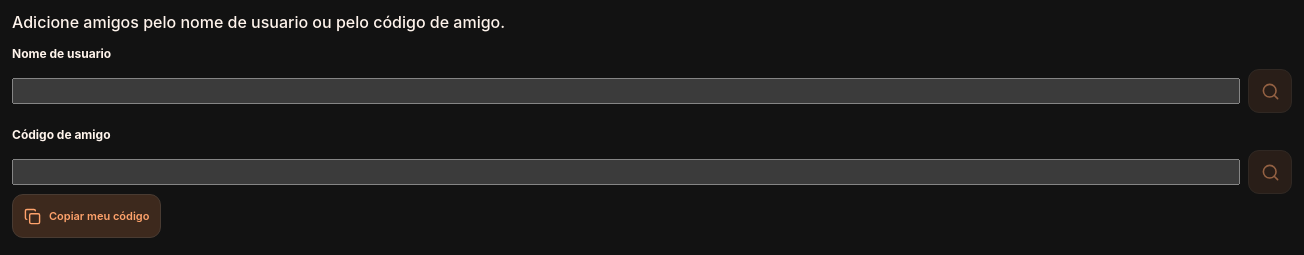
Test case: bloqueia o campo alternativo e libera ao apagar, sem consulta automática
Step 1. Type "Dani" into the search field labelled "Nome de usuario" → (626, 91), box [12,78,1240,104]
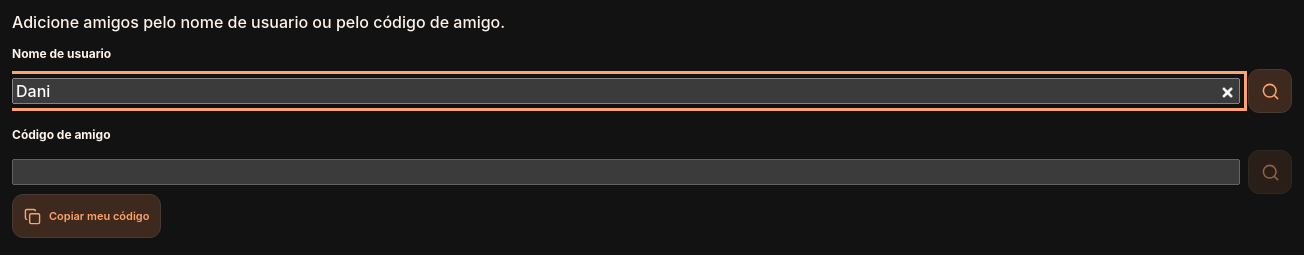
Check: the field labelled "Código de amigo" is disabled, box [12,159,1240,185]
Step 2. Clear the search field labelled "Nome de usuario" → (626, 91), box [12,78,1240,104]
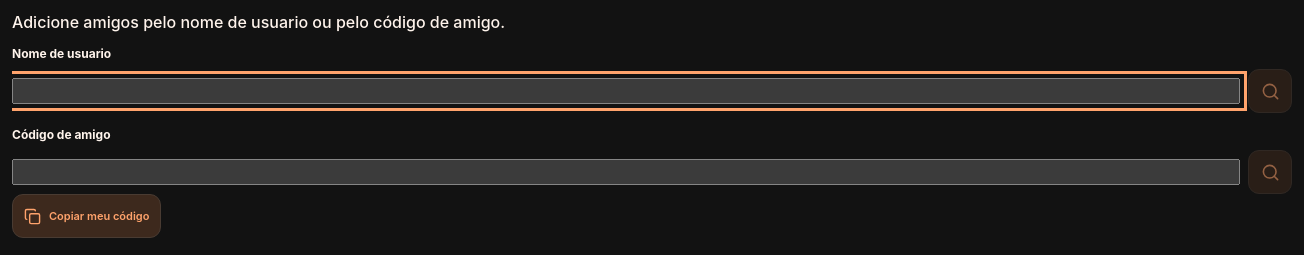
Check: the field labelled "Código de amigo" is enabled
Step 3. Type "aaaaaaaa-aaaa-4aaa-8aaa-aaaaaaaaaaaa" into the field labelled "Código de amigo" → (626, 172), box [12,159,1240,185]
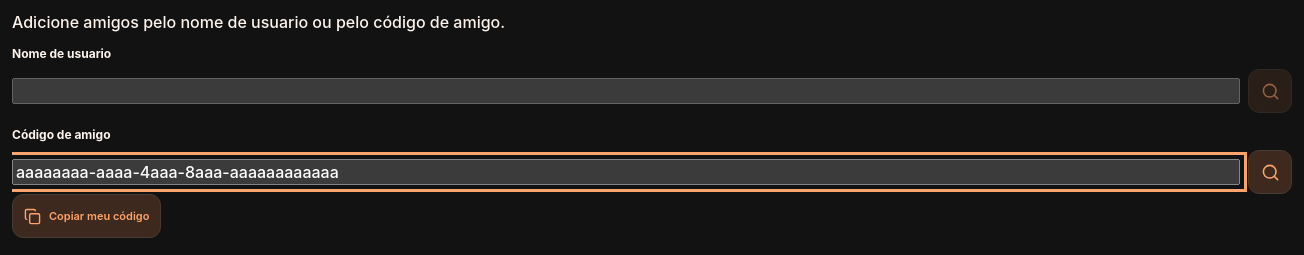
Check: the search field labelled "Nome de usuario" is disabled, box [12,78,1240,104]
Step 4. Clear the field labelled "Código de amigo" → (626, 172), box [12,159,1240,185]
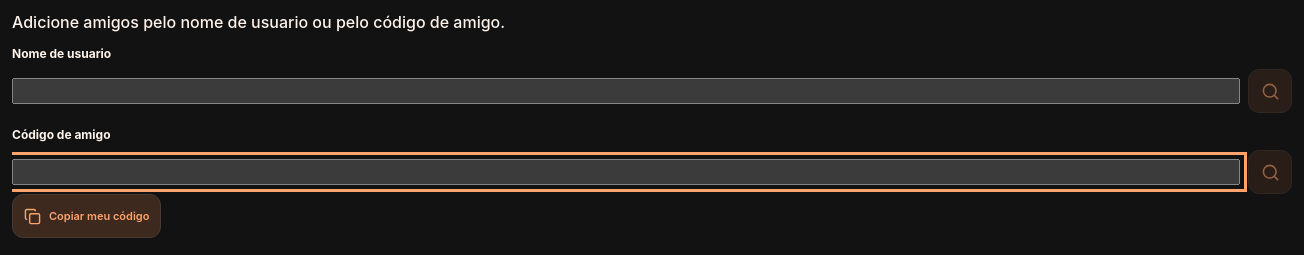
Check: the search field labelled "Nome de usuario" is enabled, box [12,78,1240,104]
